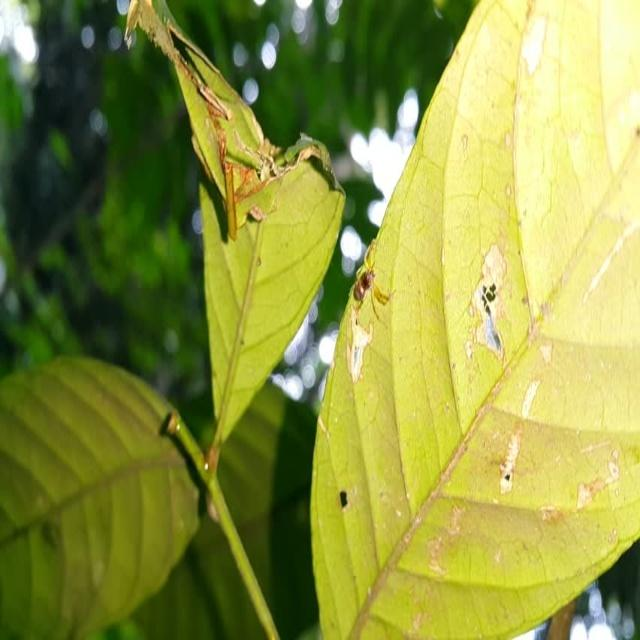shot_hole: (296, 0, 640, 640)
